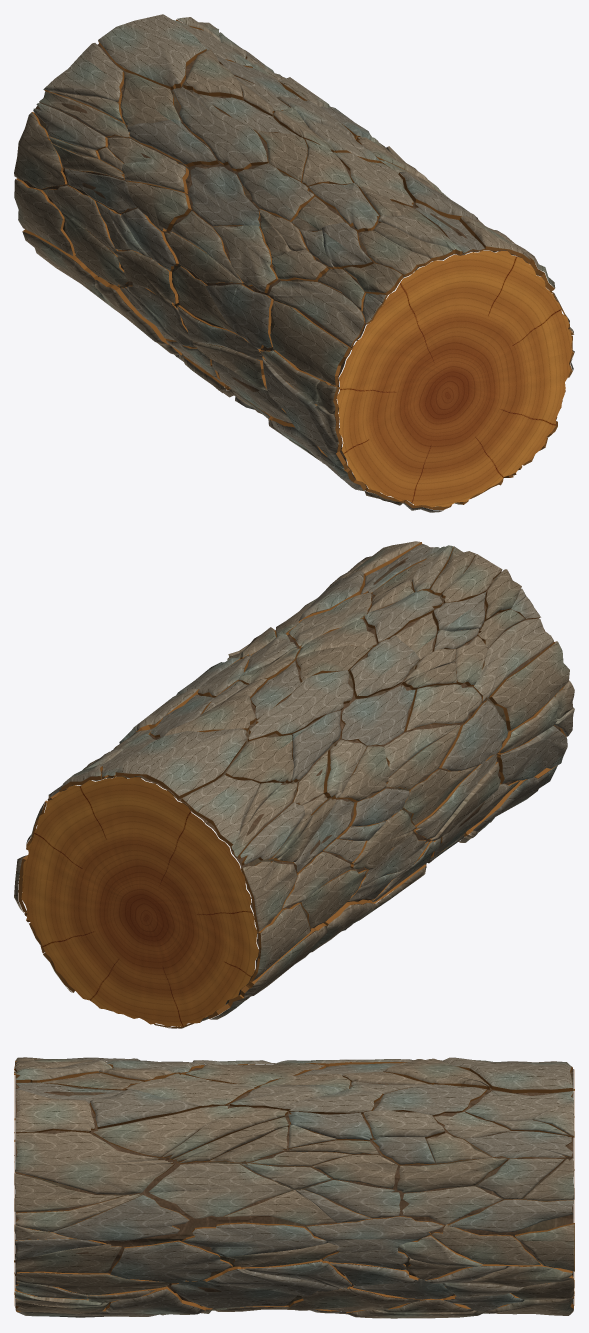
The model's file is teak_log.glb.
3 renders of one model, top to bottom at view 1: azimuth 30°, elevation 25°; view 2: azimuth 150°, elevation 25°; view 3: azimuth 270°, elevation 25°, orthographic. The views are drawn at different scales.
Parts seen in each view (by area): view 1: teak_log irregular weathered bark, teak_log species growth rings, teak_log broken cambium and bark edges, teak_log continuous fibrous fissure bed; view 2: teak_log irregular weathered bark, teak_log species growth rings, teak_log broken cambium and bark edges, teak_log continuous fibrous fissure bed; view 3: teak_log irregular weathered bark, teak_log continuous fibrous fissure bed, teak_log broken cambium and bark edges, teak_log species growth rings.
Part boxes in pixels (x1,y1,x2,y2): teak_log irregular weathered bark: (14, 14, 574, 512); teak_log species growth rings: (337, 250, 572, 507); teak_log broken cambium and bark edges: (16, 19, 573, 510); teak_log continuous fibrous fissure bed: (22, 23, 540, 503); teak_log irregular weathered bark: (14, 541, 574, 1028); teak_log species growth rings: (21, 776, 258, 1026); teak_log broken cambium and bark edges: (18, 542, 566, 1028); teak_log continuous fibrous fissure bed: (49, 547, 564, 1022); teak_log irregular weathered bark: (14, 1057, 574, 1318); teak_log continuous fibrous fissure bed: (15, 1066, 573, 1308); teak_log broken cambium and bark edges: (14, 1061, 574, 1313); teak_log species growth rings: (14, 1069, 574, 1305).
Size of the model in its own units: 0.2492 by 0.2499 by 0.5404.
4 materials, 3 textured.
